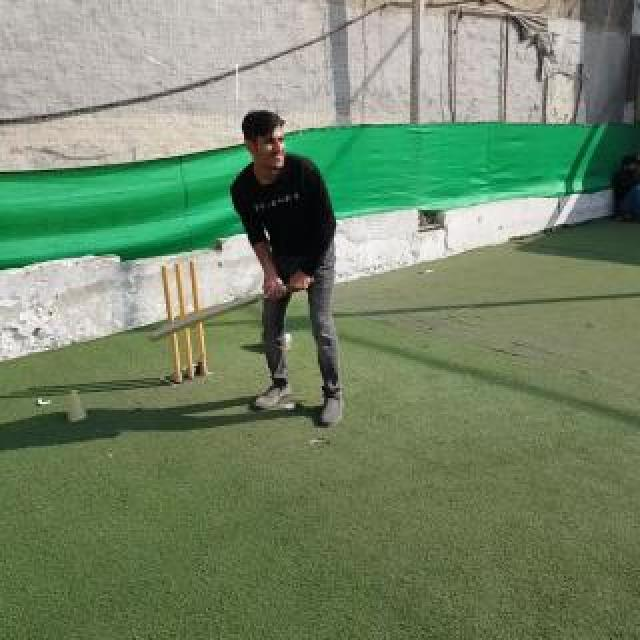bat: (148, 276, 316, 342)
